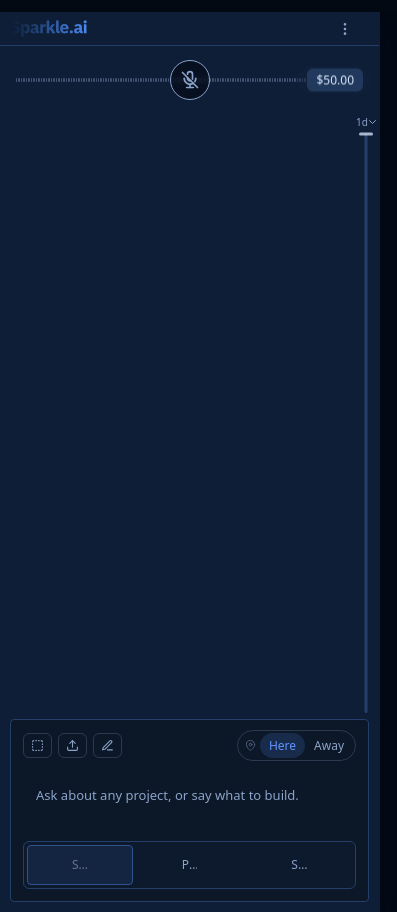
Test: a turn that FAILS says what actually went wrong › carries the evidence for a failure it cannot classify
Type "what needs me?" into the text box at (190, 804), box [23,775,356,833]
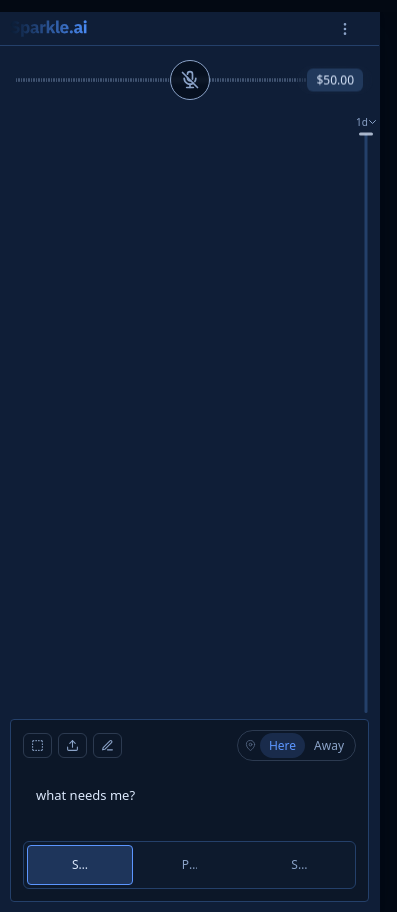
Click the text "Send" at (80, 865), box [72,856,88,874]
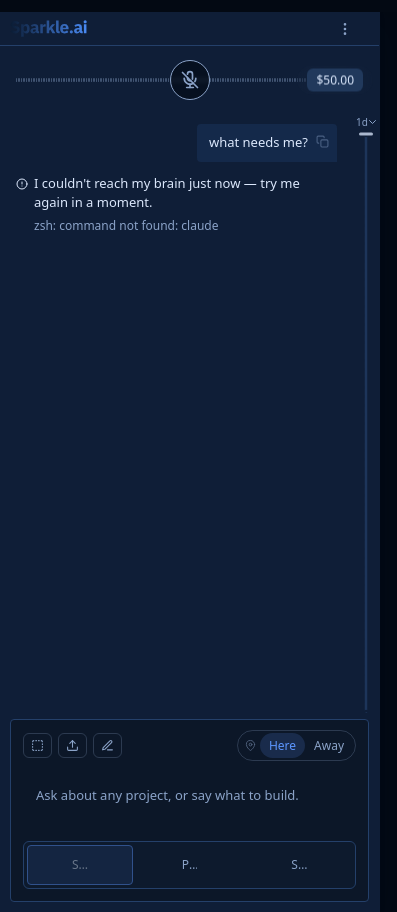
Expected: the element with test id "concierge-thread" shows "I couldn't reach my brain just now — try me again in a moment.", [34,174,300,211]
Expected: the element with test id "concierge-thread" shows "zsh: command not found: claude", [34,216,218,234]
